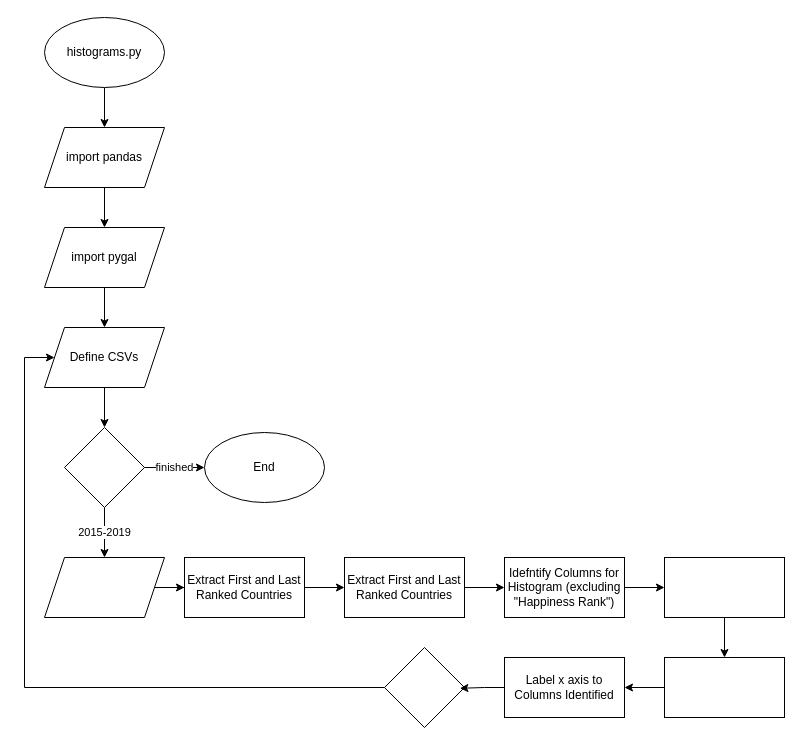
This 802x745 diagram has some shape labels left out. Here are the shapes that lost their labels. From the top down, the centre of each, then its label:
At (104,467): "Loop Through Years".
At (104,587): "Read CSV".
At (724,587): "Create Histogram".
At (424,687): "save to histogram_{year}.svg".
At (724,687): "Add Data to First and Last Ranked Countries".
